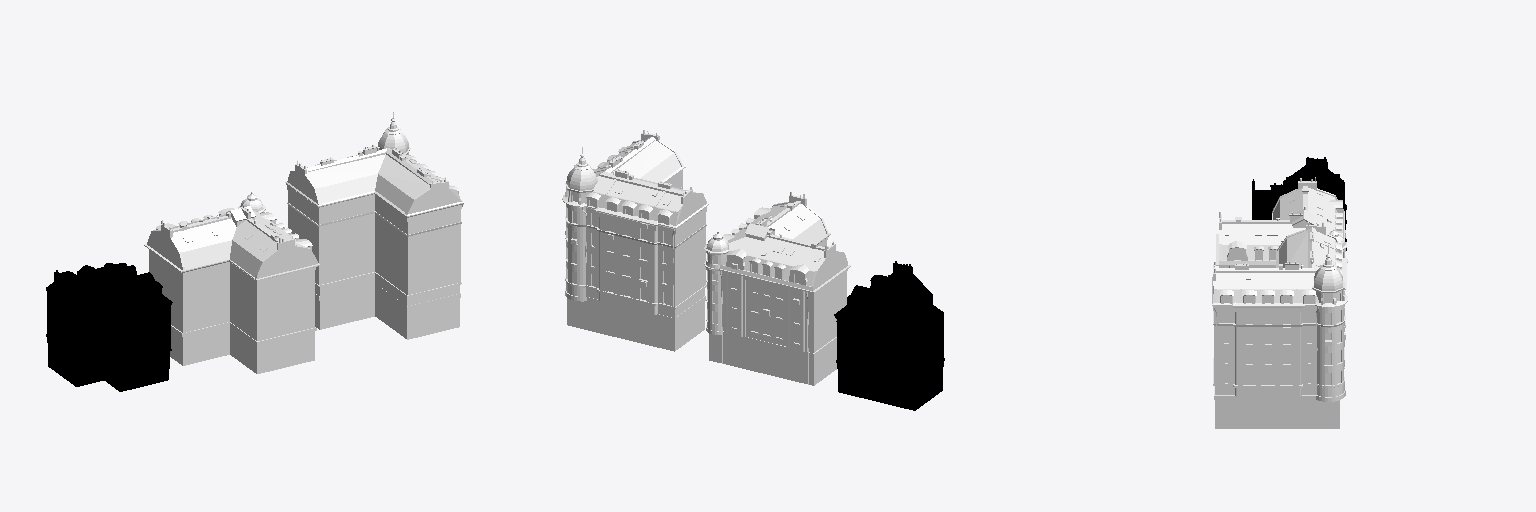
Rendered from building_low.obj.
3 views of the same model, side by side, from view 1: azimuth 30°, elevation 25°; view 2: azimuth 150°, elevation 25°; view 3: azimuth 270°, elevation 25° (orthographic).
Visible parts, largest first — view 1: 12.1.99.0; view 2: 12.1.99.0; view 3: 12.1.99.0.
Part boxes in pixels (x1,y1,x2,y2): 12.1.99.0: (46,112,463,391); 12.1.99.0: (562,130,944,410); 12.1.99.0: (1212,157,1347,428).
Bounding box in the file's own units: 110 × 52.79 × 36.53.